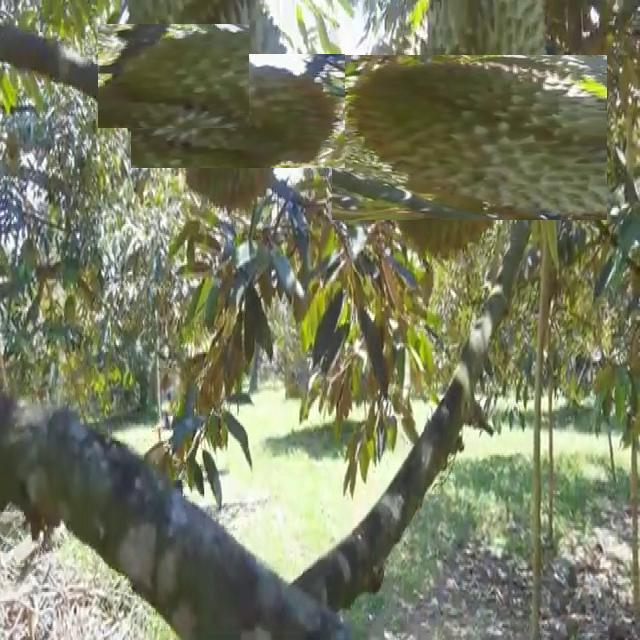durian: (358, 27, 580, 248), (156, 29, 320, 194), (109, 11, 238, 140)
